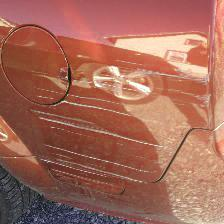bumper_scratch: (14, 45, 206, 193)
